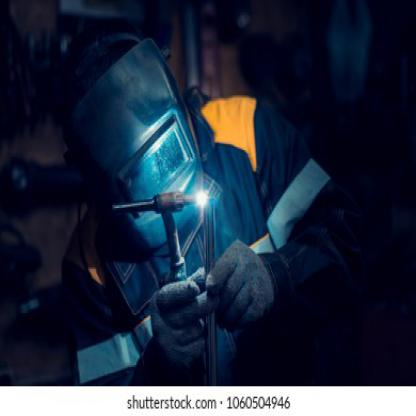with_gloves: (204, 238, 275, 333), (149, 266, 219, 362)
